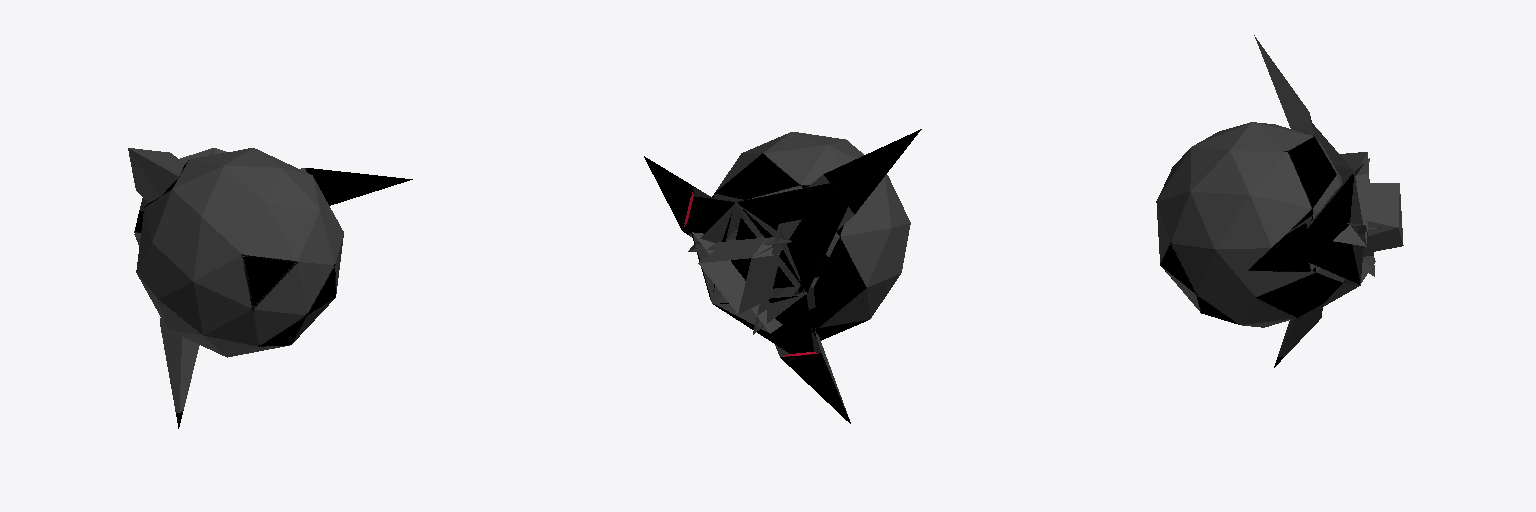
The picture shows the model from 3 angles: view 1: azimuth 30°, elevation 25°; view 2: azimuth 150°, elevation 25°; view 3: azimuth 270°, elevation 25°; orthographic projection.
Parts seen in each view (by area): view 1: ICO球; view 2: ICO球; view 3: ICO球.
Part boxes in pixels (left/top/right/bottom): ICO球: left=128, top=148, right=412, bottom=428; ICO球: left=644, top=129, right=921, bottom=423; ICO球: left=1156, top=35, right=1403, bottom=367.
Size of the model in its own units: 3.08 by 3.17 by 2.33.
Materials: 1 (1 with a texture image).